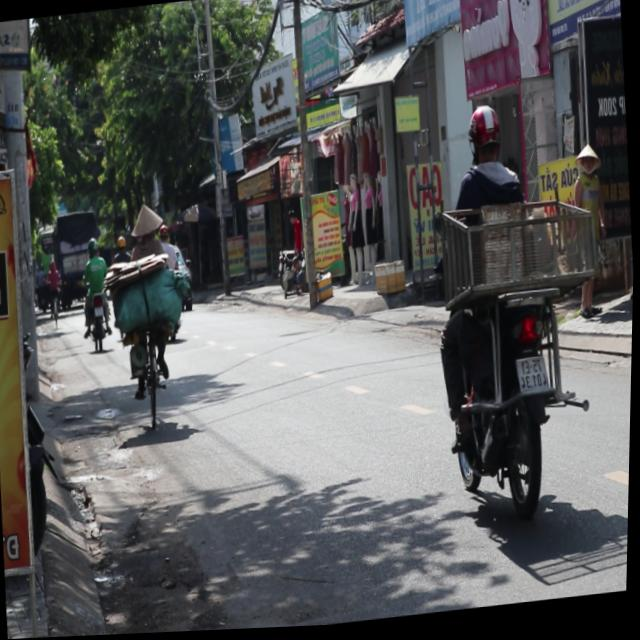helmet: (464, 104, 509, 179)
licenseplate: (419, 90, 613, 540)
nohelmet: (518, 359, 550, 398)
